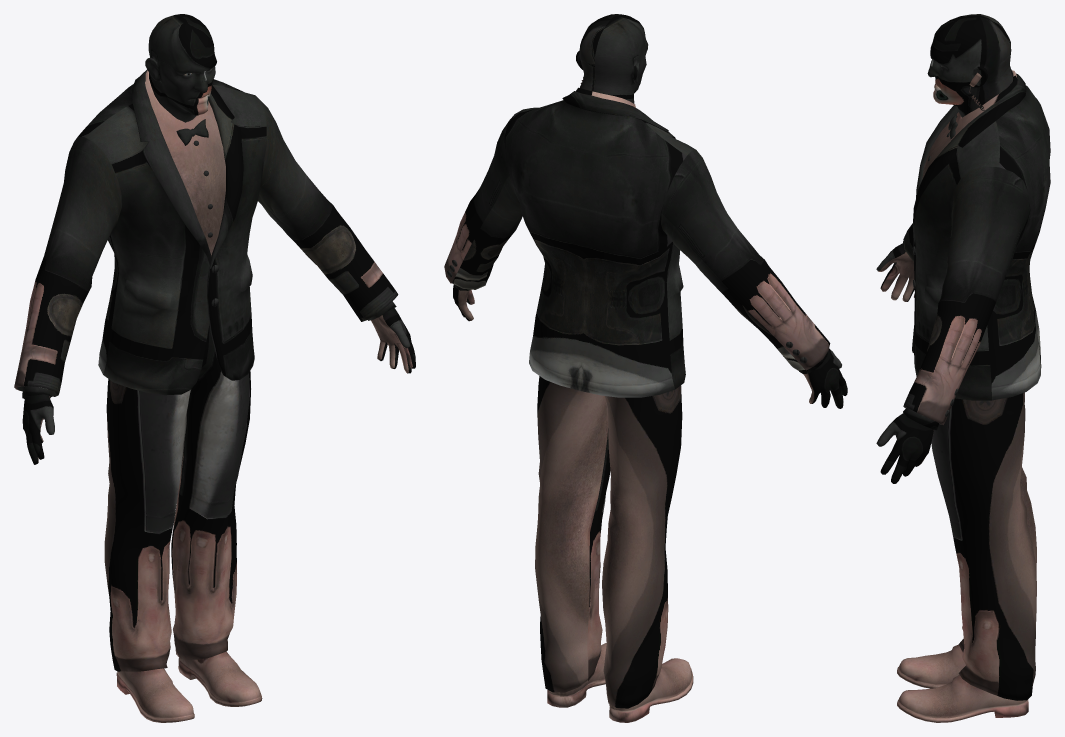
File: doorman.obj
The picture shows the model from 3 angles, left to right: view 1: azimuth 30°, elevation 25°; view 2: azimuth 150°, elevation 25°; view 3: azimuth 270°, elevation 25°; orthographic projection.
Visible parts, largest first — view 1: rdmobj03, rdmobj02; view 2: rdmobj03, rdmobj02; view 3: rdmobj03, rdmobj02.
Part boxes in pixels (box(x1,y1,x2,y2)): rdmobj03: box(14, 69, 398, 722); rdmobj02: box(22, 14, 415, 464); rdmobj03: box(444, 77, 830, 722); rdmobj02: box(453, 14, 847, 408); rdmobj03: box(897, 70, 1050, 722); rdmobj02: box(876, 14, 1013, 483).
Size of the model in its own units: 3.62 by 6.11 by 1.42.
